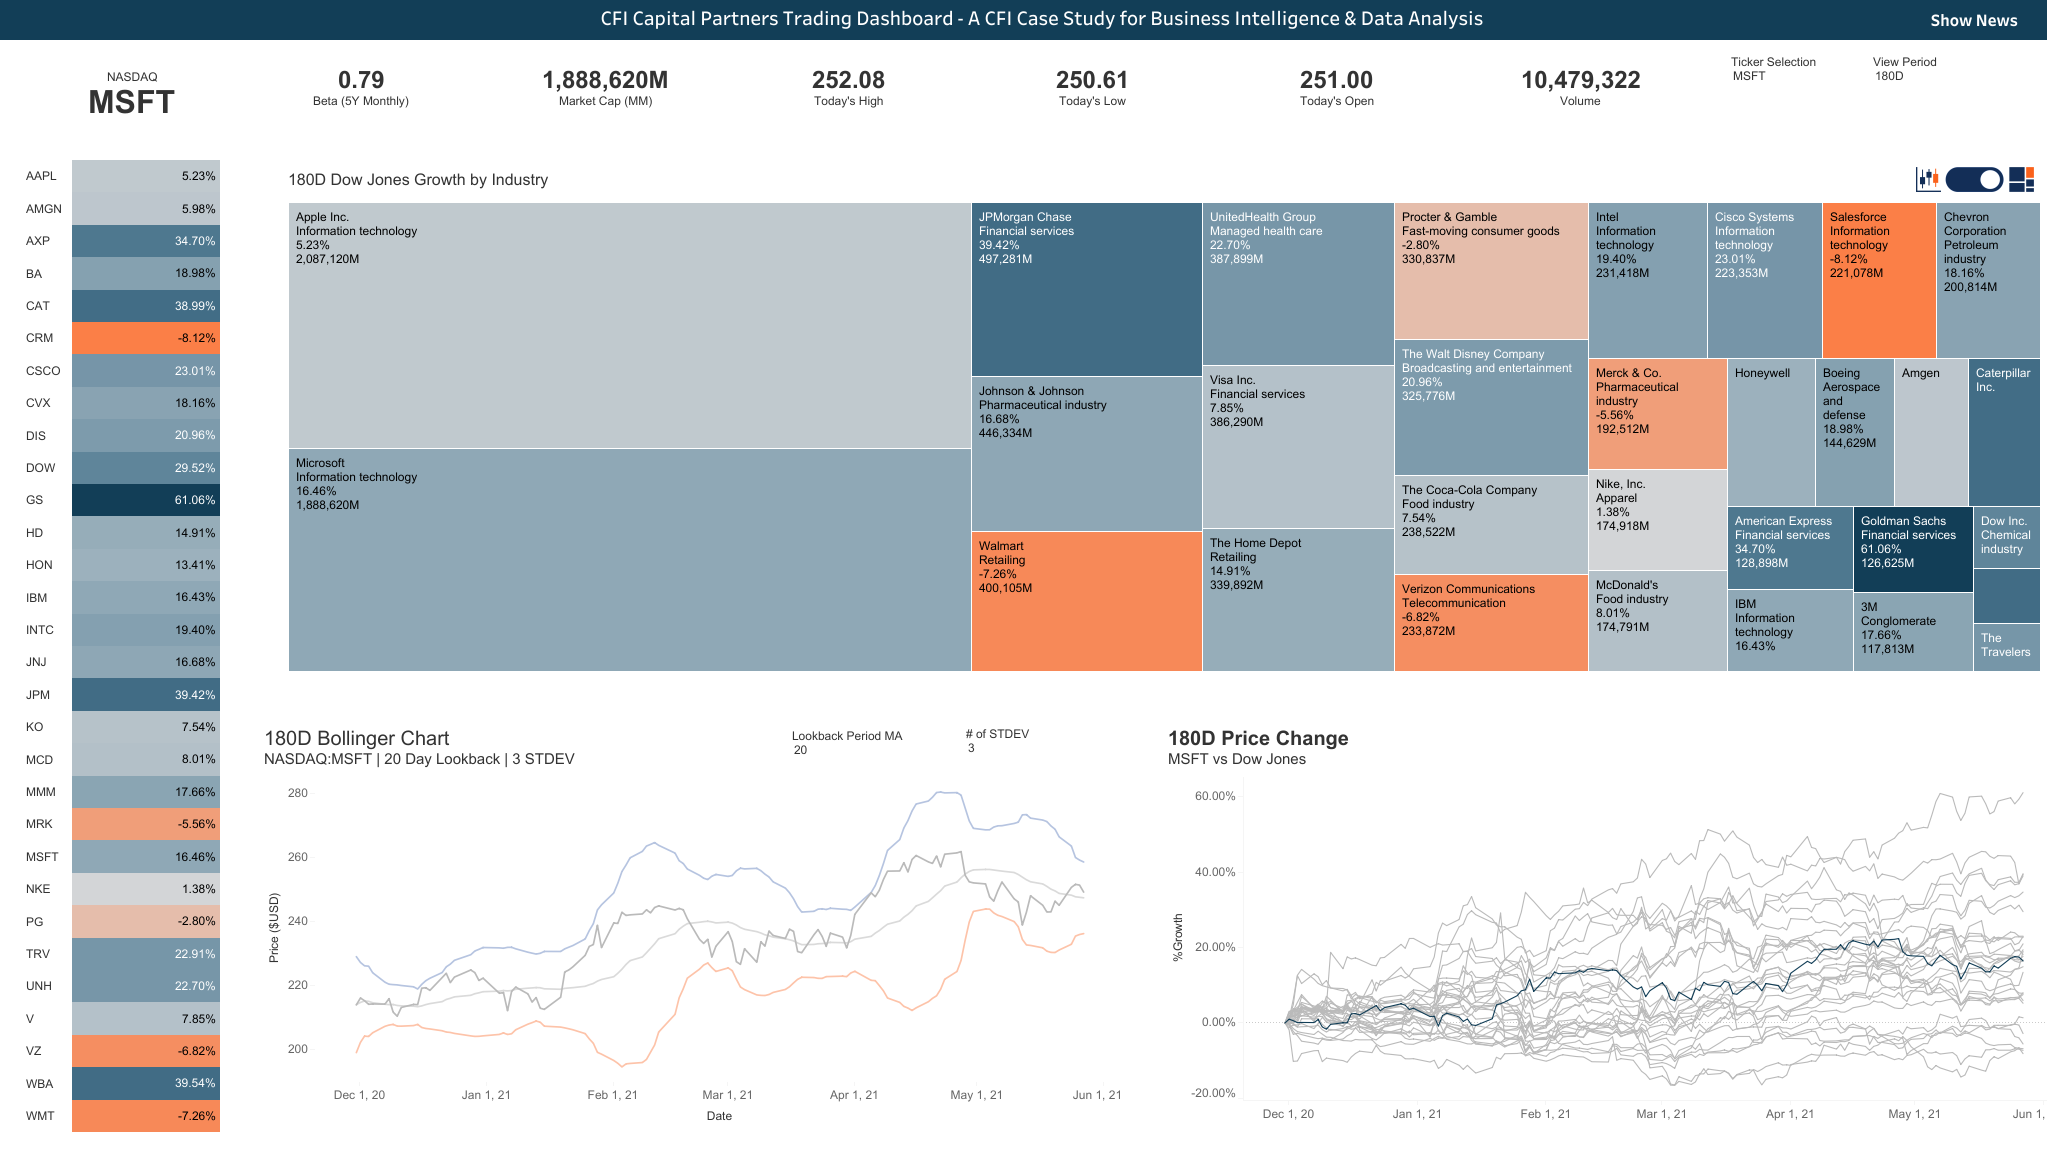

This screenshot's page, from the dashboard's own definition file:
{"tool":"tableau","page":{"name":"DOW Jones Technical Analysis","canvas":[2048,1152],"ordinal":0},"visuals":[{"type":"dashboard-object","box":[1911,4,127,30]},{"type":"web page","param":"https://s.tradingview.com/widgetembed/?symbol=<[Parameters].[Parameter 4]>&inter","box":[11,40,2036,1111]},{"type":"worksheet","title":"Ticker","mark":"Automatic","box":[20,40,225,110]},{"type":"worksheet","title":"BANS","mark":"Automatic","box":[240,40,1463,95]},{"type":"parameter","param":"[Parameters].[Parameter 4]","box":[1731,54,131,41]},{"type":"parameter","param":"[Parameters].[Parameter 1]","box":[1873,54,167,41]},{"type":"dashboard-object","box":[1916,152,123,55]},{"type":"worksheet","title":" TotalGrowth","mark":"Square","rows":["Symbol"],"box":[20,160,200,972]},{"type":"worksheet","title":"CandlestickChart","mark":"GanttBar","rows":["Open","Low","Volume","Calculation_346214283092754434"],"cols":["Date"],"box":[280,160,1768,520]},{"type":"worksheet","title":"TREEMAP","mark":"Automatic","box":[280,160,1768,520]},{"type":"legend","title":" TotalGrowth","param":"[federated.03vb9l80aneml410iinwh1e7dn8k].[usr:Calculation_346214283221295117:qk]","box":[280.4,223.2,140.2,76.3]},{"type":"worksheet","title":"BollingerBands","mark":"Automatic","rows":["Close"],"cols":["Date"],"box":[260,720,864,410]},{"type":"parameter","param":"[Parameters].[Parameter 3]","box":[966,726,142,40]},{"type":"parameter","param":"[Parameters].[Parameter 2]","box":[792,728,163,52]}]}

Visuals, with their boxes in screenshot pixels (x1, y1, x2, y2), scaled from the page's 2048x1152 canvas onto the 2047x1151 screenshot:
dashboard-object: locate(1910, 4, 2037, 34)
web page: locate(11, 40, 2046, 1150)
"Ticker" worksheet: locate(20, 40, 245, 150)
"BANS" worksheet: locate(240, 40, 1702, 135)
parameter: locate(1730, 54, 1861, 95)
parameter: locate(1872, 54, 2039, 95)
dashboard-object: locate(1915, 152, 2038, 207)
" TotalGrowth" worksheet (Square marks): locate(20, 160, 220, 1131)
"CandlestickChart" worksheet (GanttBar marks): locate(280, 160, 2046, 679)
"TREEMAP" worksheet: locate(280, 160, 2046, 679)
" TotalGrowth" legend: locate(280, 223, 420, 299)
"BollingerBands" worksheet: locate(260, 719, 1123, 1129)
parameter: locate(966, 725, 1107, 765)
parameter: locate(792, 727, 955, 779)
